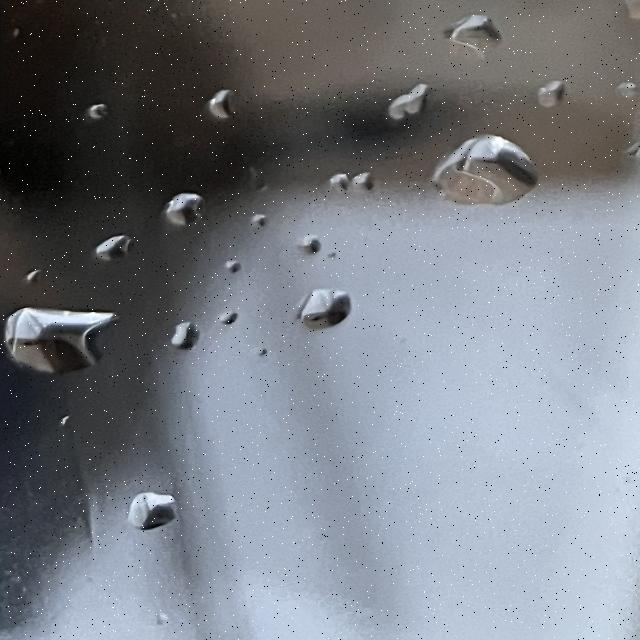raindrop: (418, 128, 540, 219), (1, 300, 118, 388), (399, 8, 529, 70), (108, 469, 183, 536), (156, 182, 236, 231), (286, 293, 358, 345), (180, 70, 246, 120), (367, 75, 440, 118), (83, 226, 152, 267), (280, 228, 346, 266), (67, 88, 128, 128), (156, 312, 202, 364), (314, 164, 380, 200), (523, 89, 586, 122), (202, 306, 242, 340), (242, 208, 294, 230), (223, 254, 261, 279), (614, 76, 640, 103)
